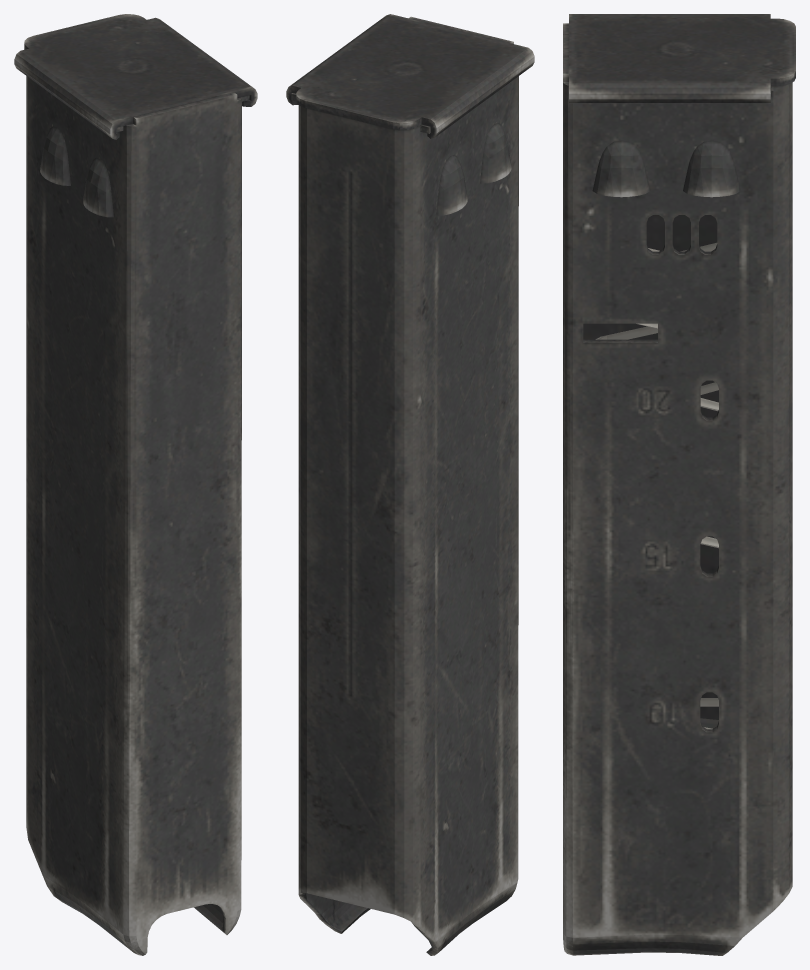
3 views of the same model, side by side, from view 1: azimuth 30°, elevation 25°; view 2: azimuth 150°, elevation 25°; view 3: azimuth 270°, elevation 25° (orthographic). The views are drawn at different scales.
Parts seen in each view (by area): view 1: TW_66992713ae08c5c29e0c4f97_PZ_Import; view 2: TW_66992713ae08c5c29e0c4f97_PZ_Import; view 3: TW_66992713ae08c5c29e0c4f97_PZ_Import.
Boxes of the visible parts, x1,y1,x2,y2 form: TW_66992713ae08c5c29e0c4f97_PZ_Import: (14,14,257,955); TW_66992713ae08c5c29e0c4f97_PZ_Import: (286,14,534,955); TW_66992713ae08c5c29e0c4f97_PZ_Import: (563,14,795,955).
Bounding box in the file's own units: 0.015 × 0.0195 × 0.0817.
1 material, 1 textured.
